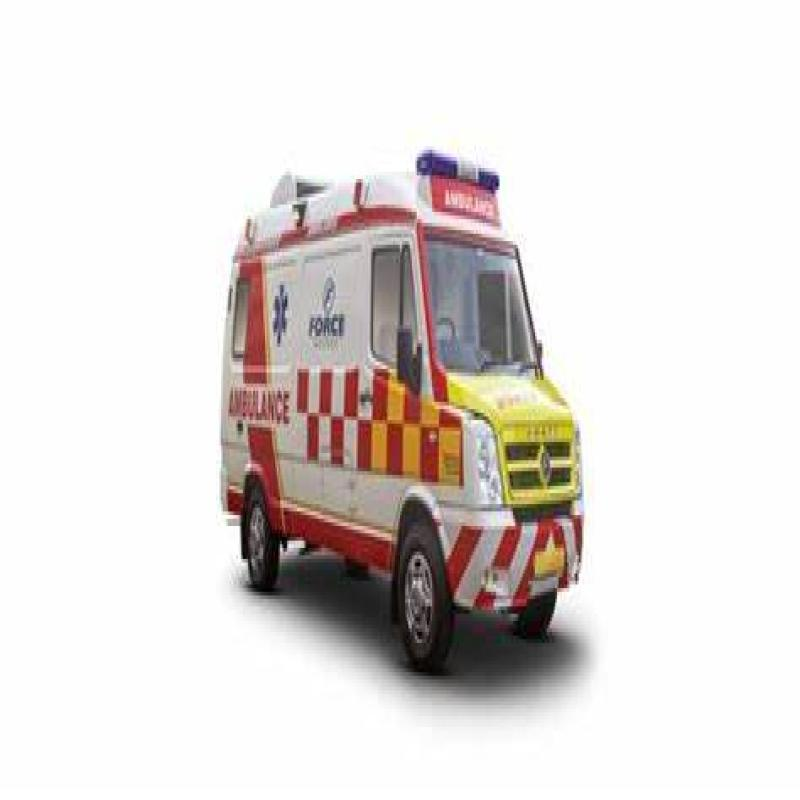AmbulanceSiren: (405, 127, 504, 208)
